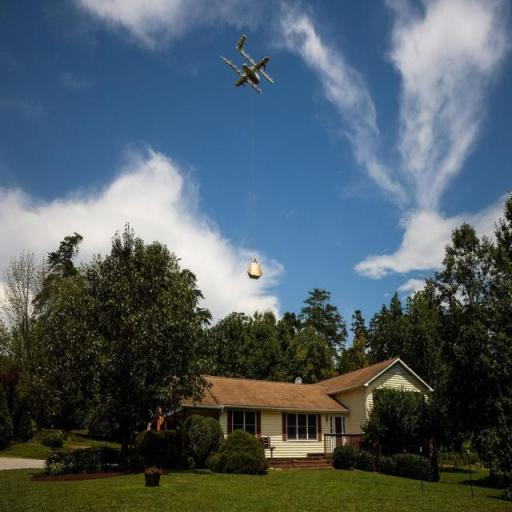uav: (220, 34, 275, 101)
